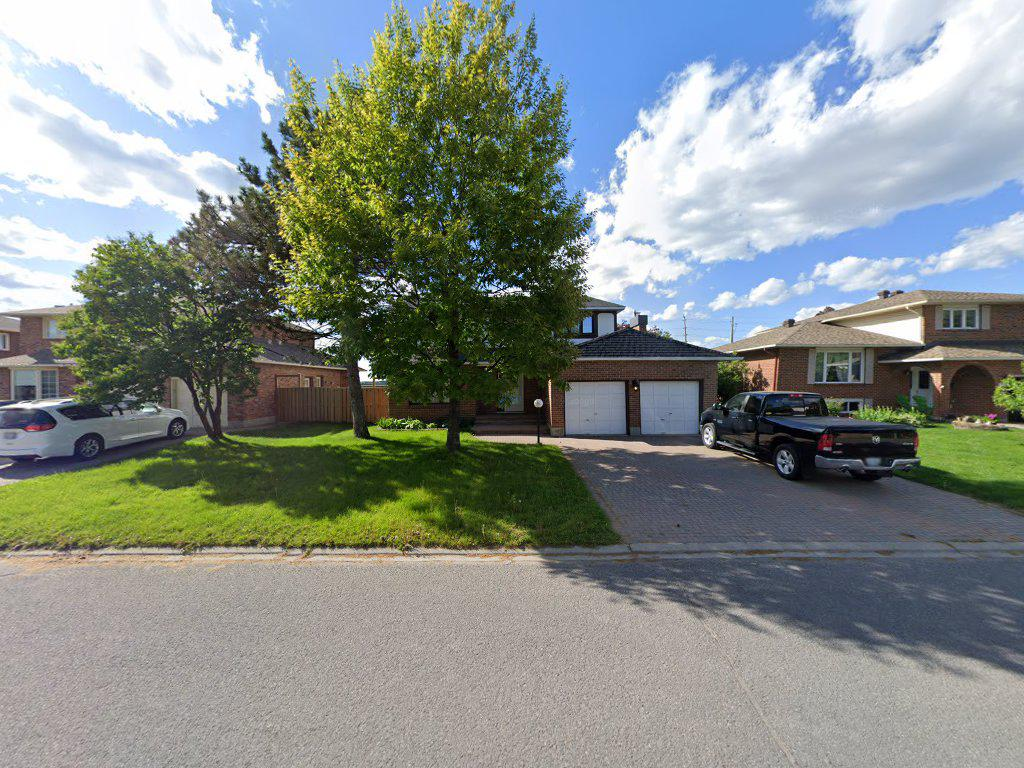trunk: (189, 383, 233, 448), (343, 353, 371, 446), (441, 394, 465, 456)
